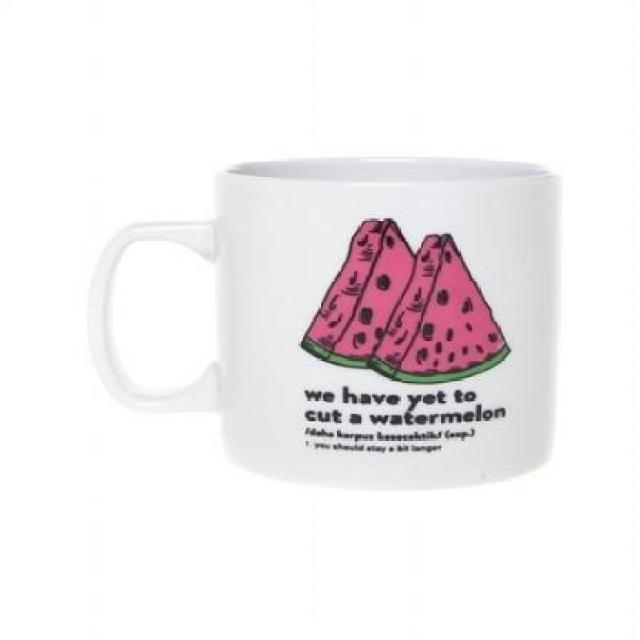taza: (83, 158, 566, 492)
